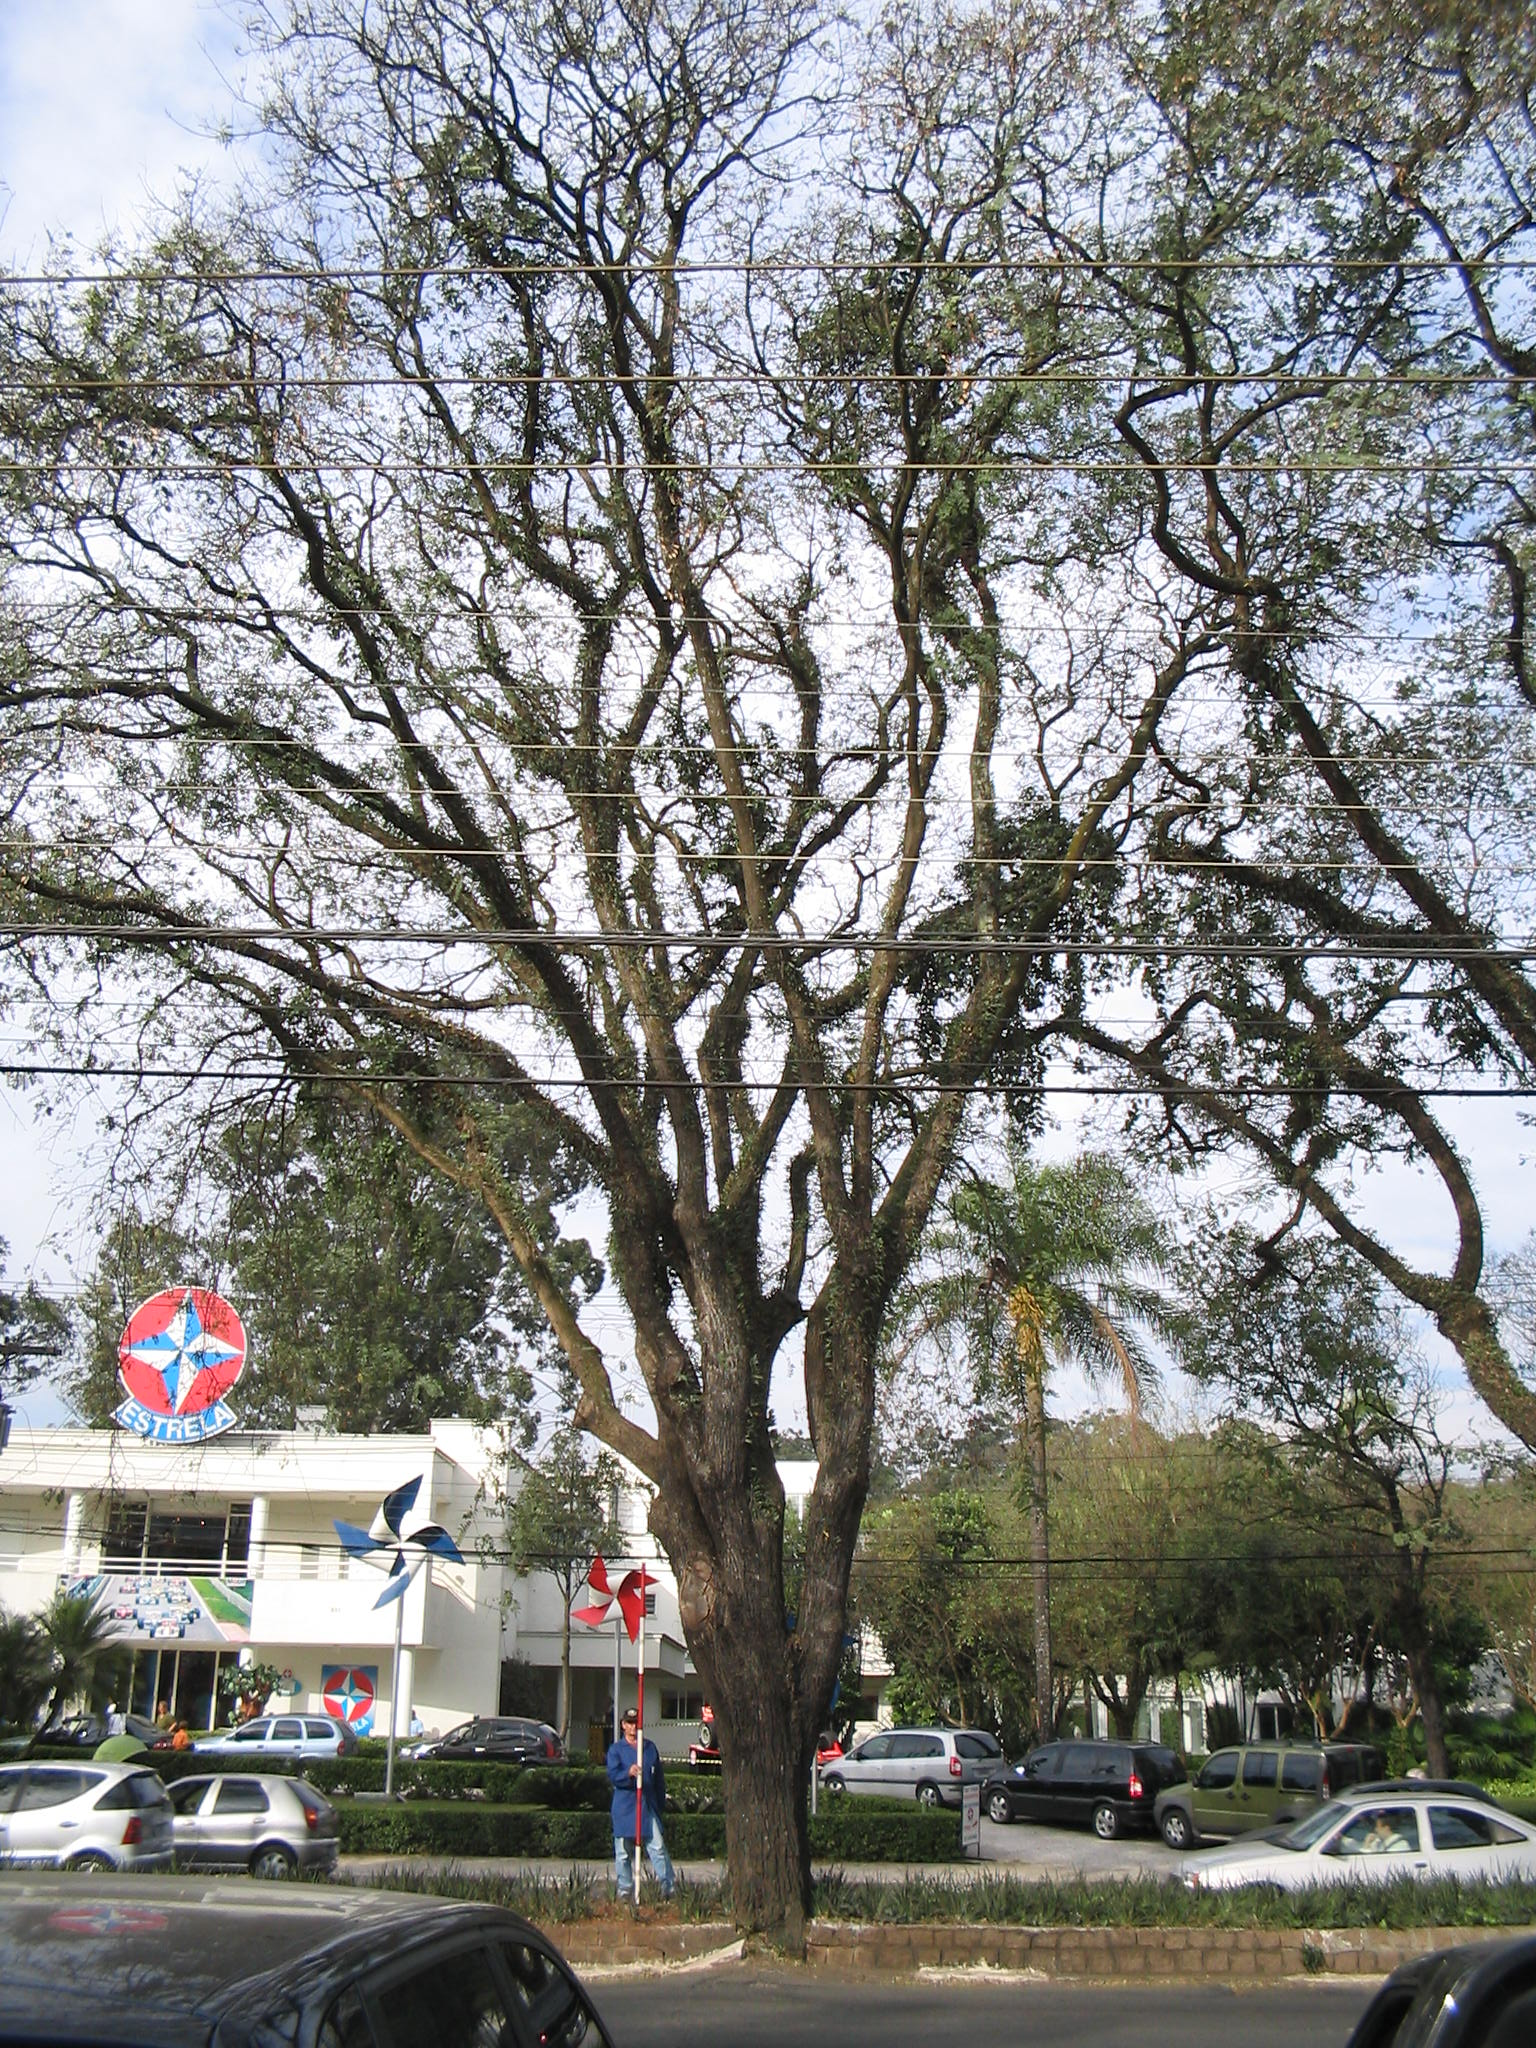stem: (681, 1692, 857, 1921)
stick: (603, 1566, 674, 1911)
tree: (6, 2, 1196, 1917)
